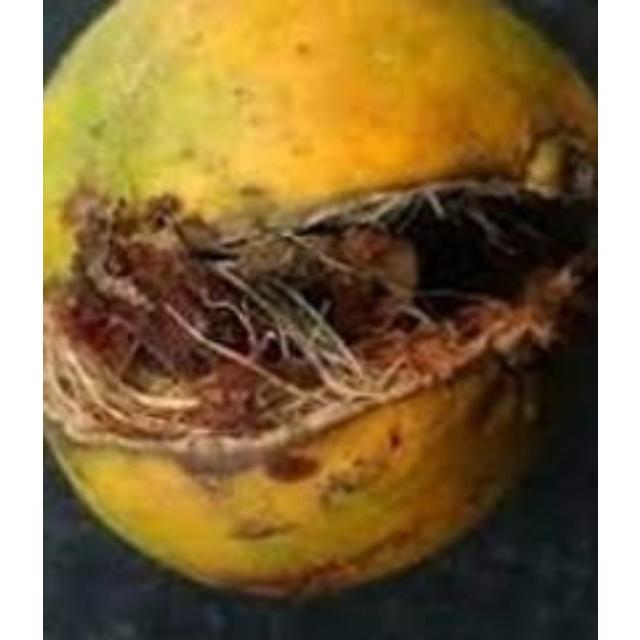damaged: (42, 0, 594, 616)
